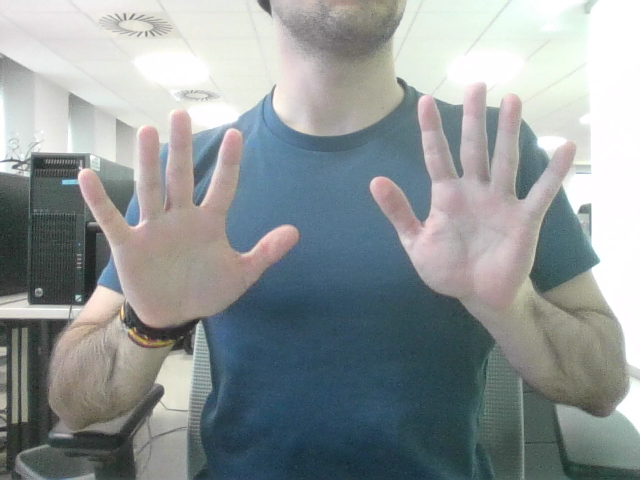Manos Arriba: (112, 102, 544, 290)
